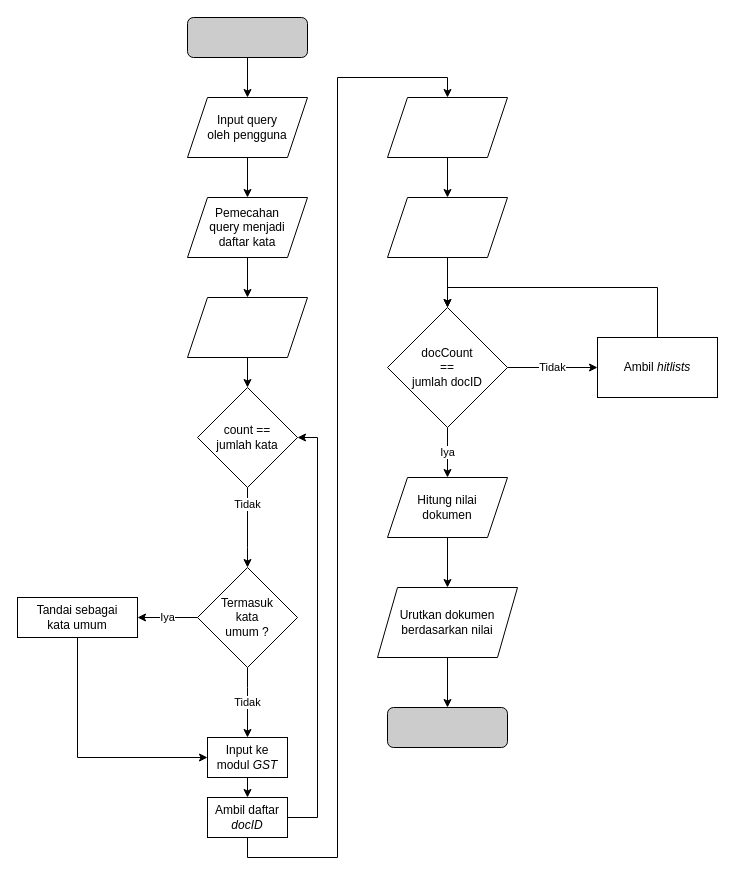
Some shapes in this 735 by 883 pixel diagram are drawn without their labels. Each missing label, with the box of its shape:
Ambil irisan docID: (386, 96, 508, 158)
Inisiasi count = 0: (186, 296, 308, 358)
Inisiasi docCount == 0: (386, 196, 508, 258)
Mulai: (186, 16, 308, 58)
Selesai: (386, 706, 508, 748)
